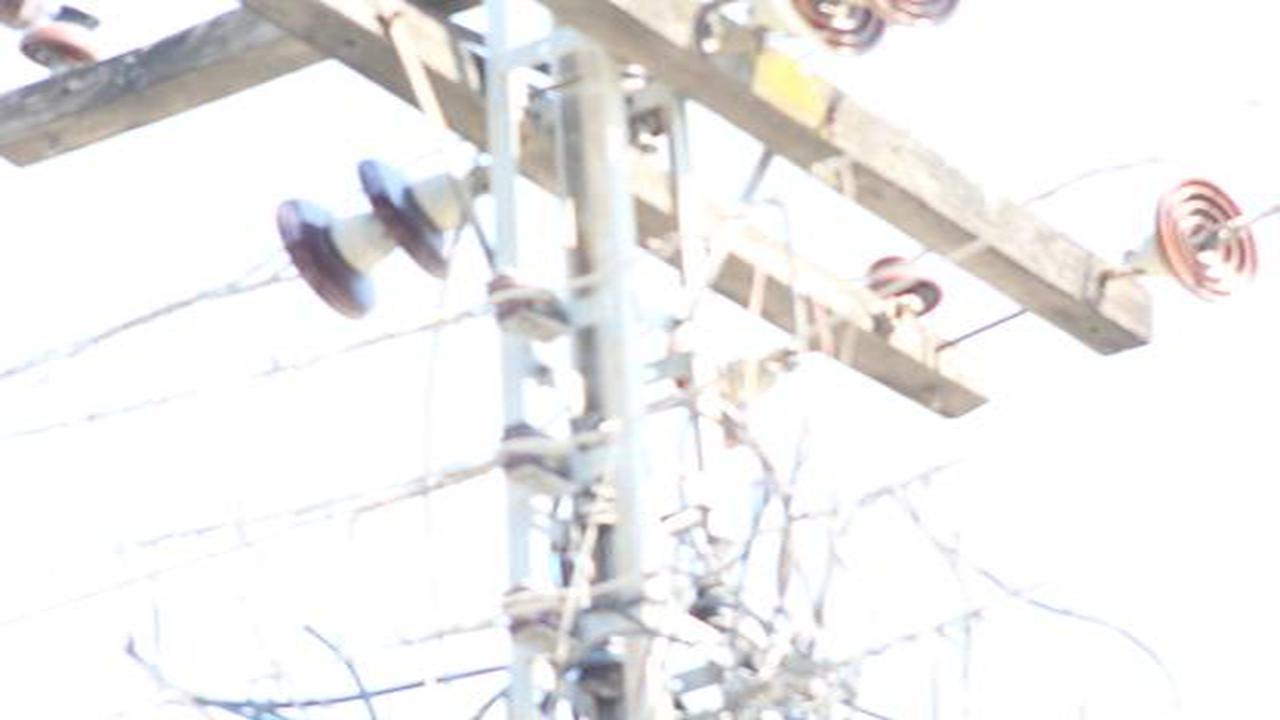insulator_disc: (1138, 175, 1258, 306), (356, 152, 472, 280), (273, 192, 376, 323)
insulator_pin: (21, 4, 105, 70), (863, 253, 944, 320)
